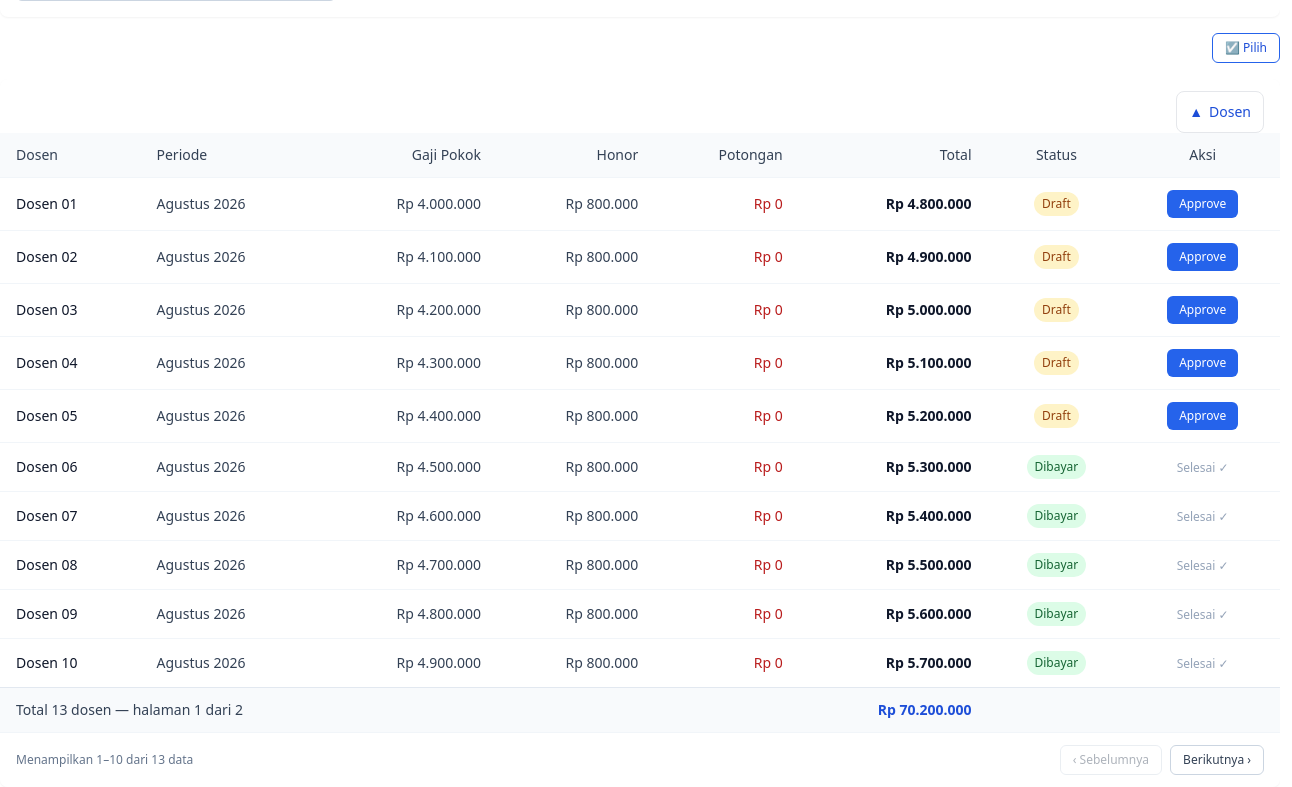
FinancePayrollPage › pagination 10/baris: 13 data → halaman 2 berisi 3 sisa data
(page scrolled)
Expected: the text "Dosen 01" is shown, [0, 178, 140, 230]
Expected: the text "Total 13 dosen — halaman 1 dari 2" is shown, [0, 688, 799, 732]
Click the button "Berikutnya ›".
click(1217, 760)  # box [1170, 745, 1264, 775]
(page scrolled)
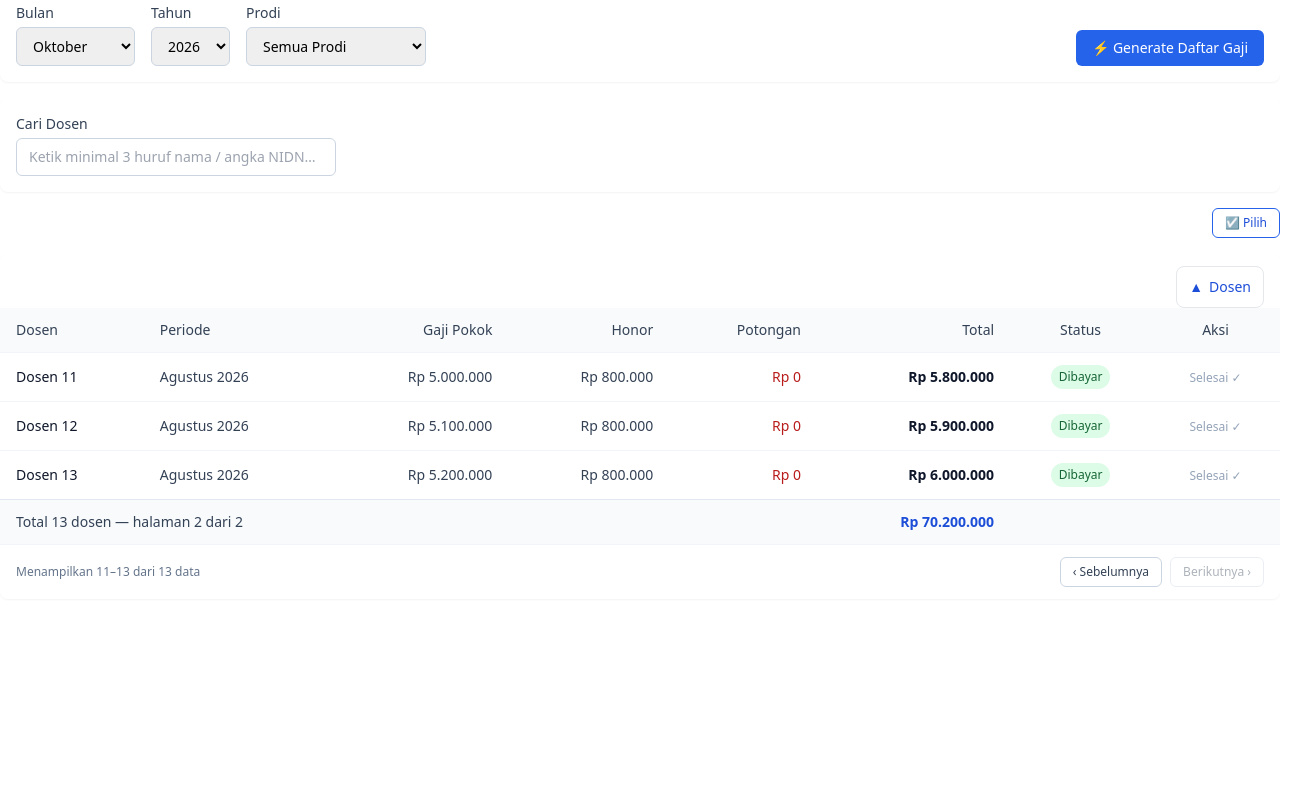
Expected: the text "Dosen 11" is shown, [0, 352, 144, 402]
Expected: the text "Total 13 dosen — halaman 2 dari 2" is shown, [0, 500, 817, 544]
